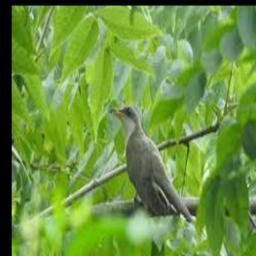Cuckoo: (109, 105, 193, 222)
